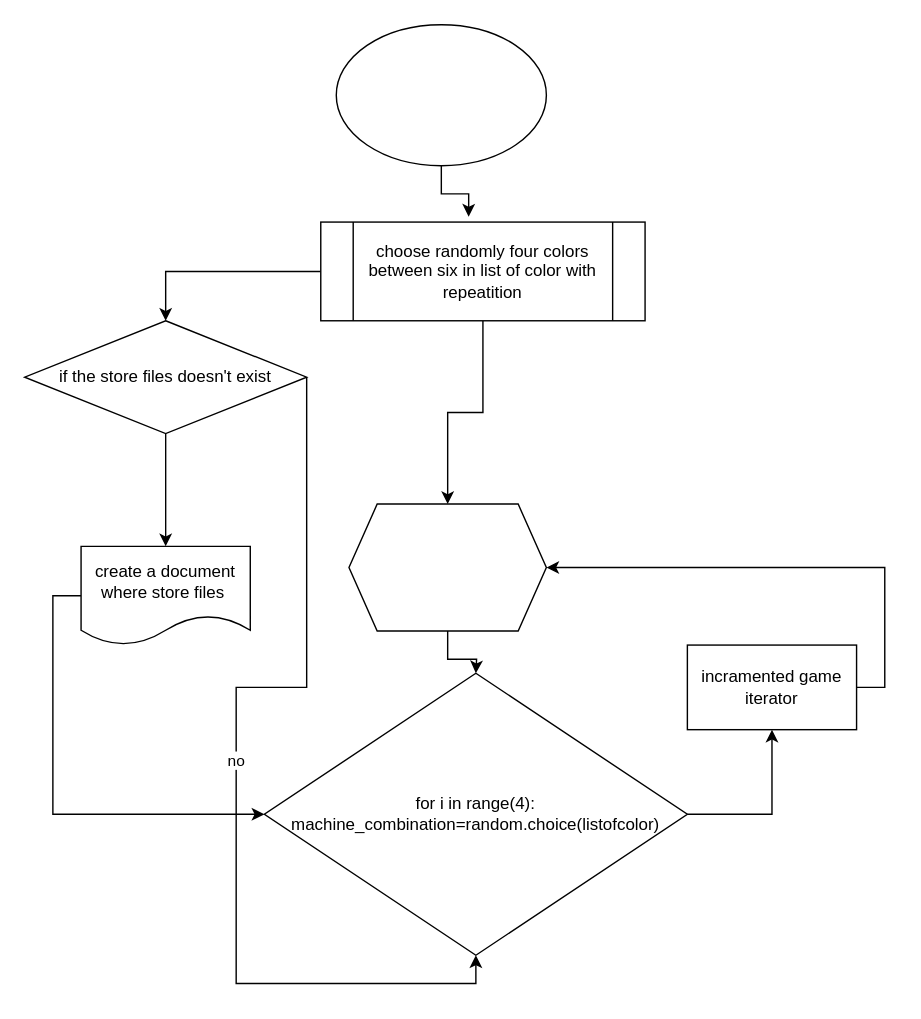
Some shapes in this 921 by 1019 pixel diagram are drawn without their labels. The shapes that lost their labels are listed below. From the top down, each one's centre as x and y in pixels, then its label:
the point at 440,94: start machine choice
the point at 447,567: list of color machine combination try limit game iterator
